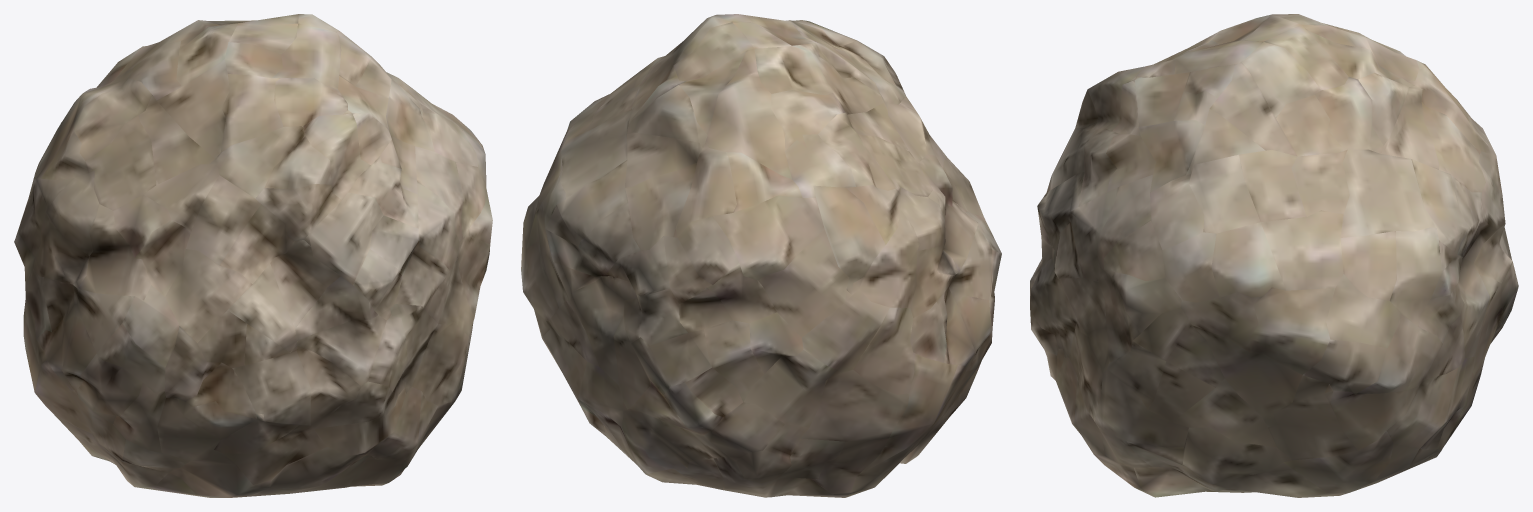
Rendered from asteroid_3.glb.
The picture shows the model from 3 angles, left to right: view 1: azimuth 30°, elevation 25°; view 2: azimuth 150°, elevation 25°; view 3: azimuth 270°, elevation 25°; orthographic projection. The views are drawn at different scales.
Size of the model in its own units: 1.99 by 1.95 by 1.97.
1 material, 1 textured.
